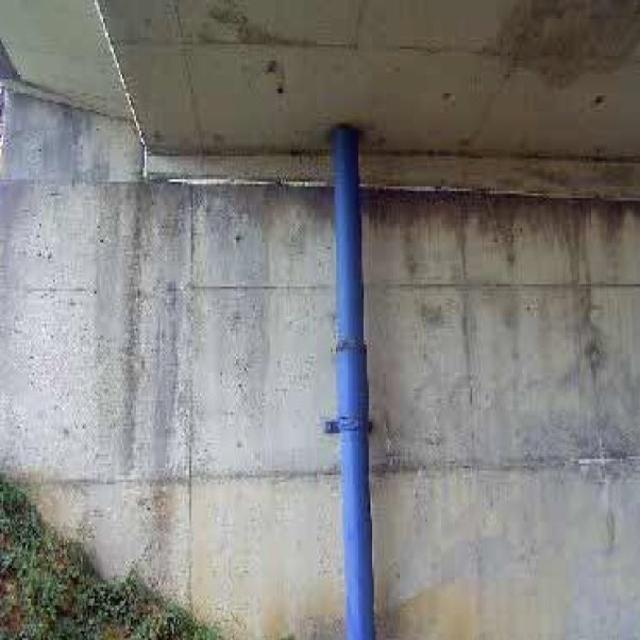leakage: (363, 171, 634, 310)
